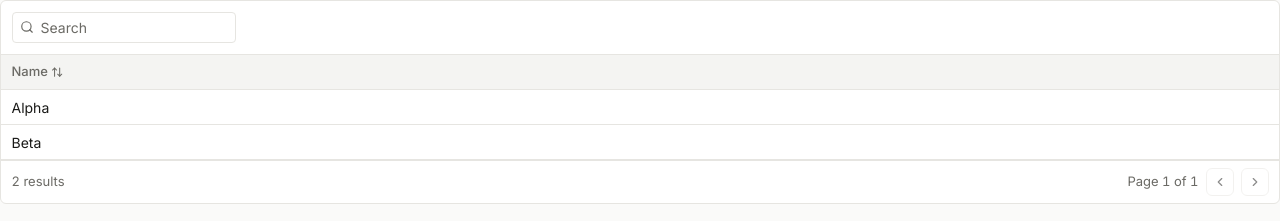
Test case: DataTable › filters rows with the search box
Type "Alp" into the field named "Search rows" at (124, 27), box [12,12,236,43]
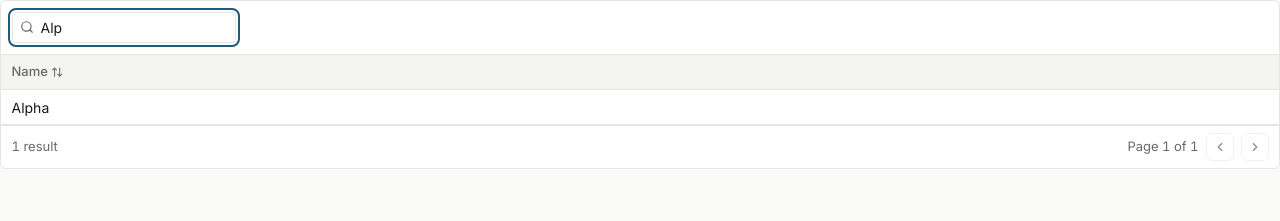
Check: the text "Alpha" is shown, box [1,90,1279,124]
Check: the text "Beta" is gone
